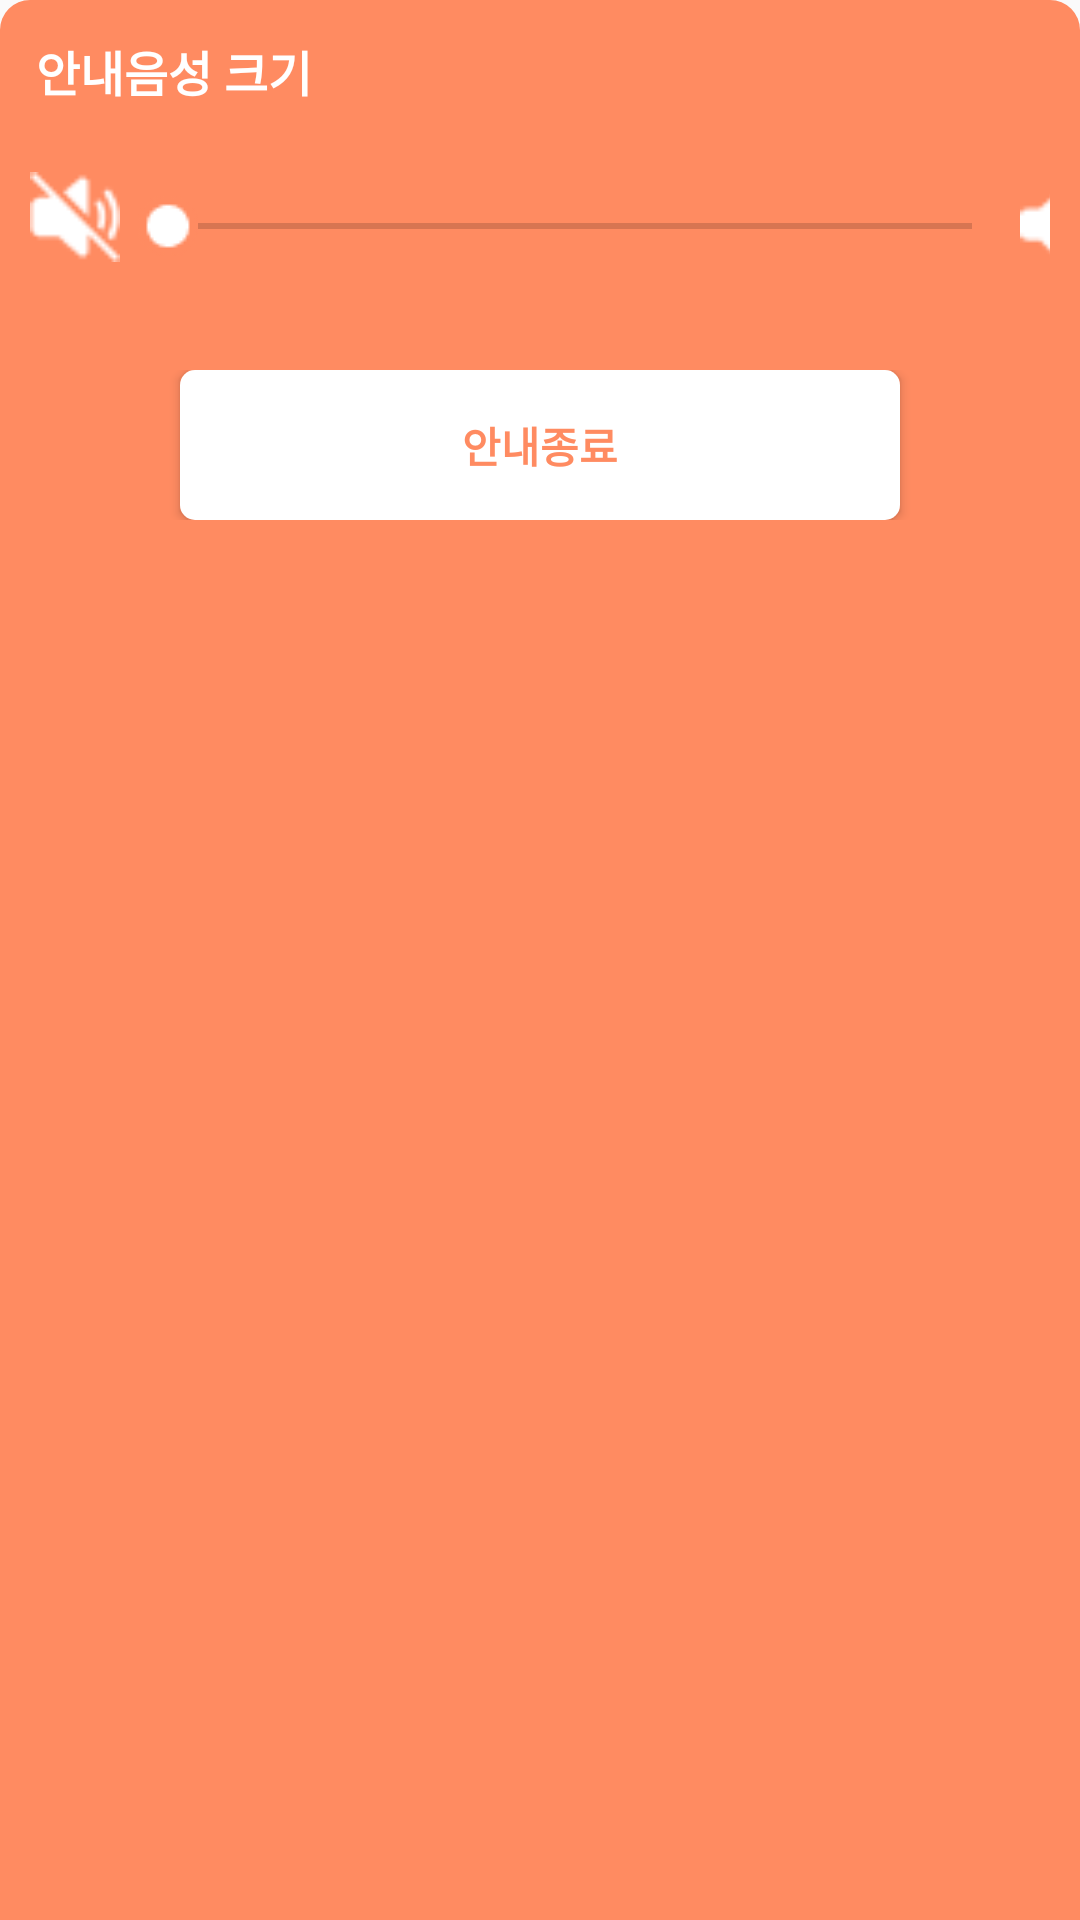

Icon click points for this 1080px x 1920px phone screenshot, format point (x, y):
mute: point (75, 217)
